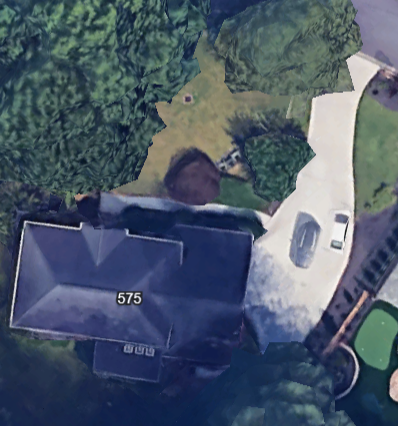driveway: (218, 45, 398, 366)
